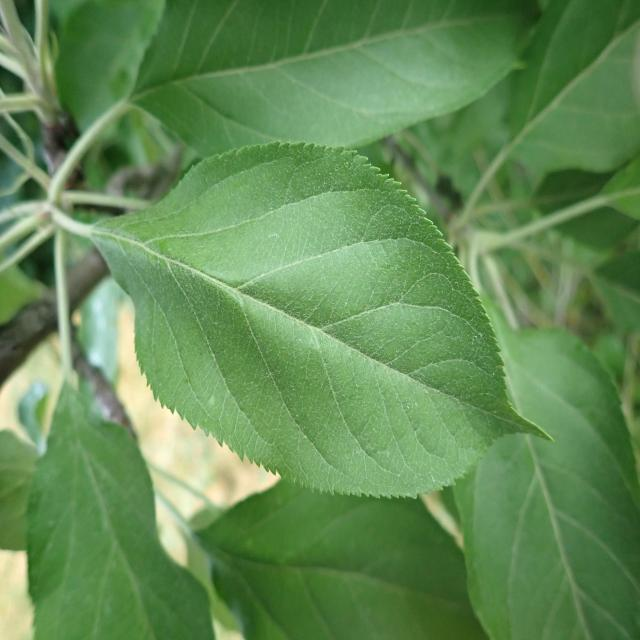healthy: (89, 141, 556, 501), (130, 0, 544, 160), (459, 324, 640, 640), (25, 379, 216, 640), (190, 477, 491, 640)
